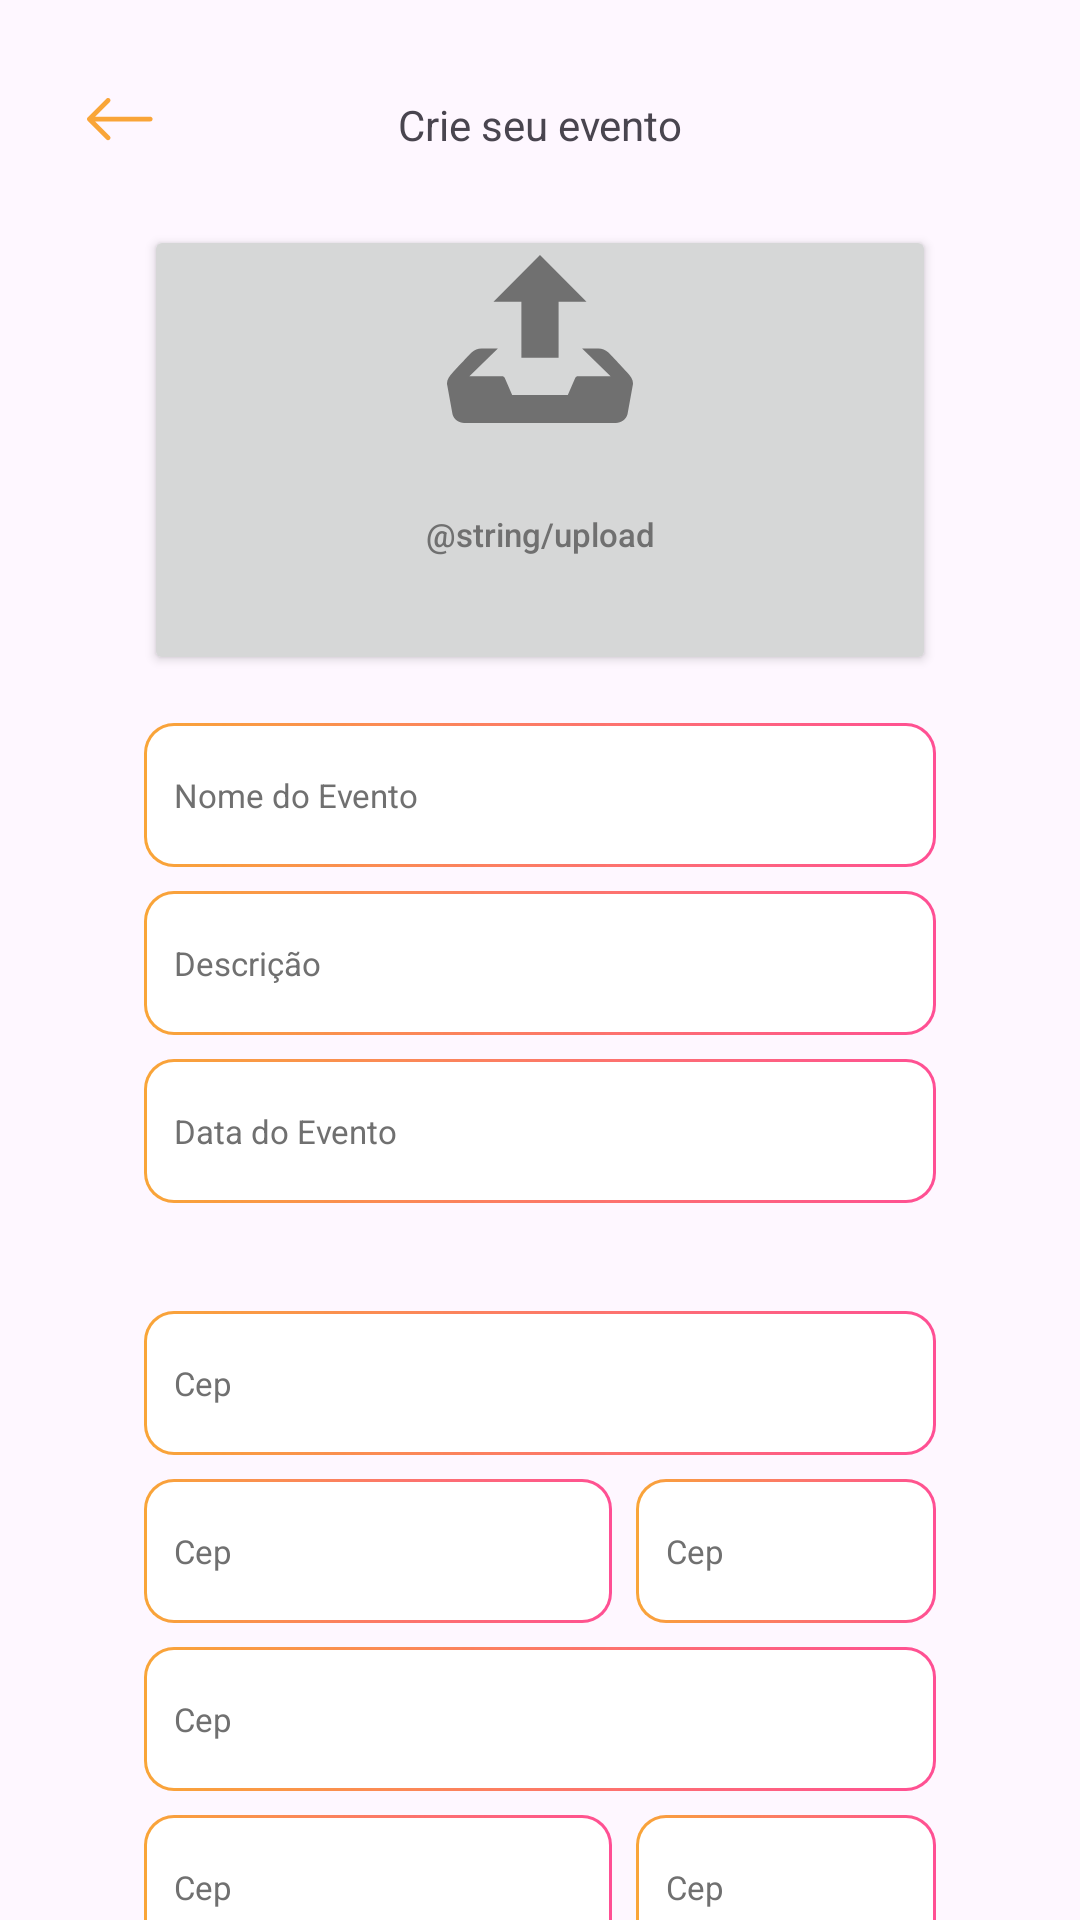

Where icons sit on this 1080 x 1920 app screen, as (x1, y1, x2, y2):
back: (87, 98, 153, 141)
